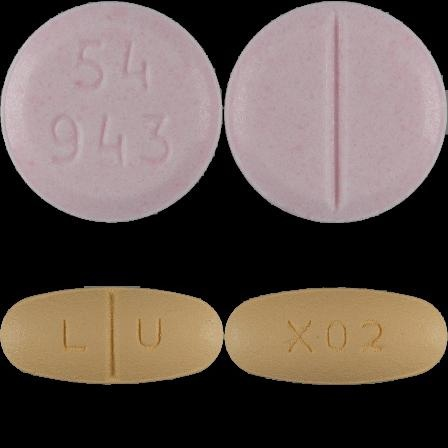63629-4127: (0, 0, 224, 224)
